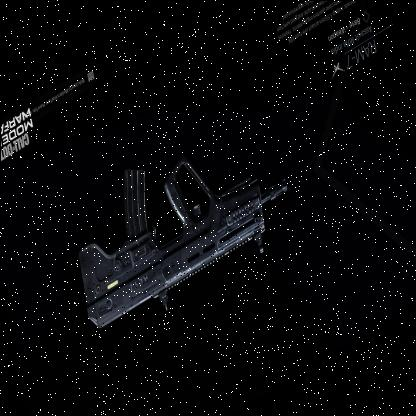rifle: (63, 80, 302, 369)
